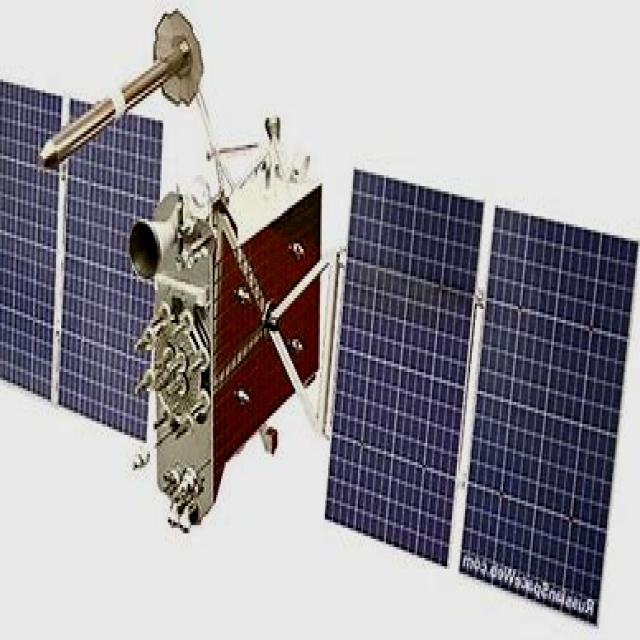satellite: (0, 15, 635, 635)
